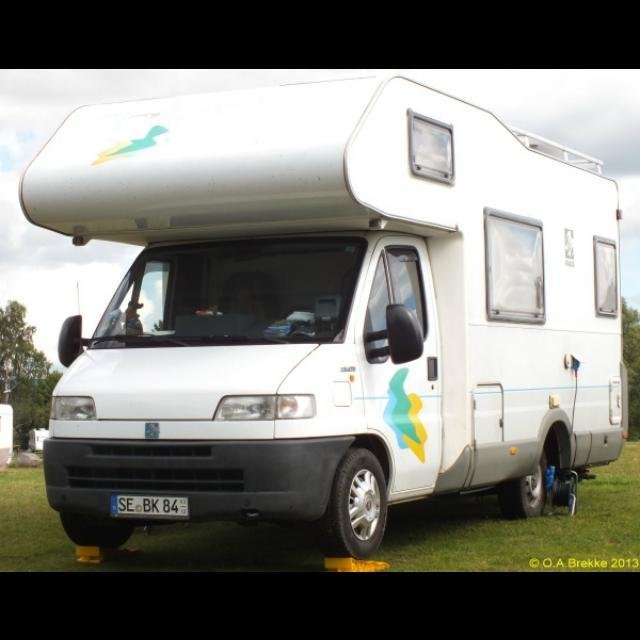license-plates: (110, 496, 188, 520)
